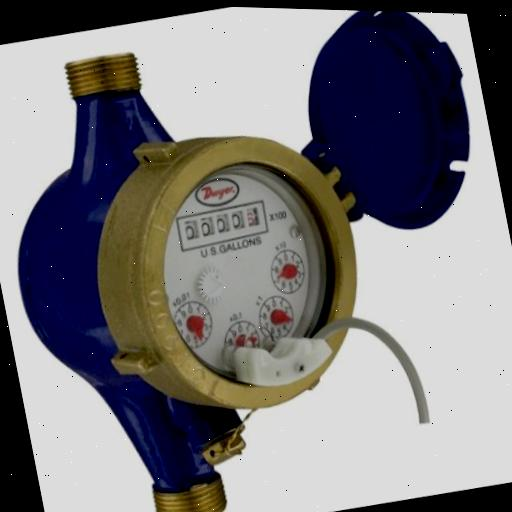0: (182, 219, 200, 242), (199, 218, 216, 240), (215, 215, 231, 236), (229, 211, 245, 231)
6: (244, 209, 261, 228)
border_water_meter_number: (172, 196, 272, 255)
